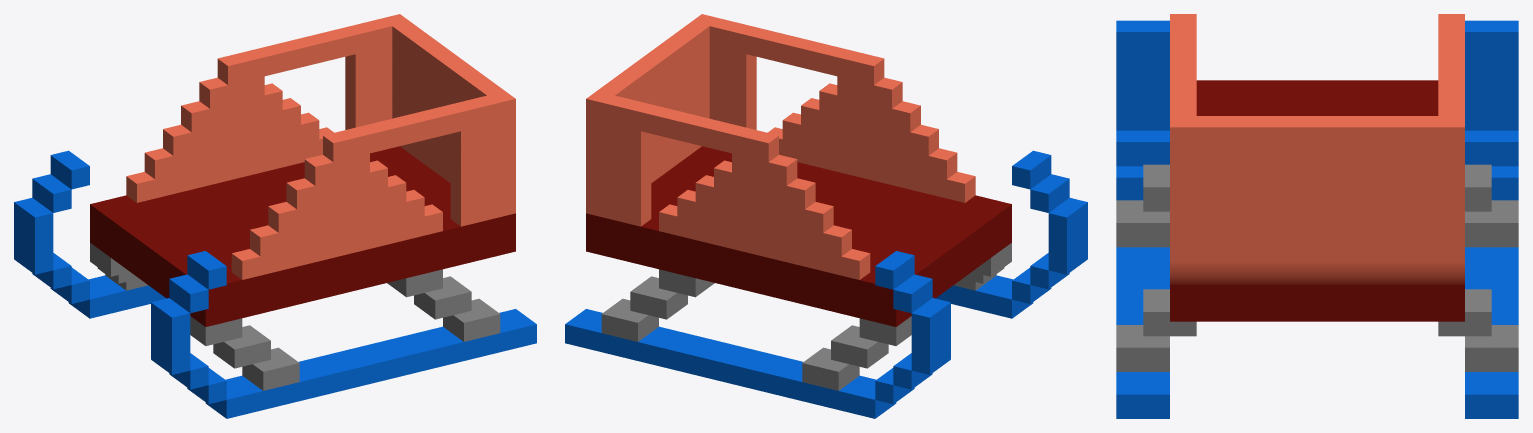
File: Vehicle_2.fbx
3 views of the same model, side by side, from view 1: azimuth 30°, elevation 25°; view 2: azimuth 150°, elevation 25°; view 3: azimuth 270°, elevation 25° (orthographic). The views are drawn at different scales.
Visible parts, largest first — view 1: Vehicle_2; view 2: Vehicle_2; view 3: Vehicle_2.
Part boxes in pixels (x1=…): Vehicle_2: x1=14, y1=14, x2=536, y2=418; Vehicle_2: x1=565, y1=14, x2=1087, y2=418; Vehicle_2: x1=1116, y1=14, x2=1518, y2=418.
Size of the model in its own units: 20 by 12 by 15.
Materials: 1 (1 with a texture image).
